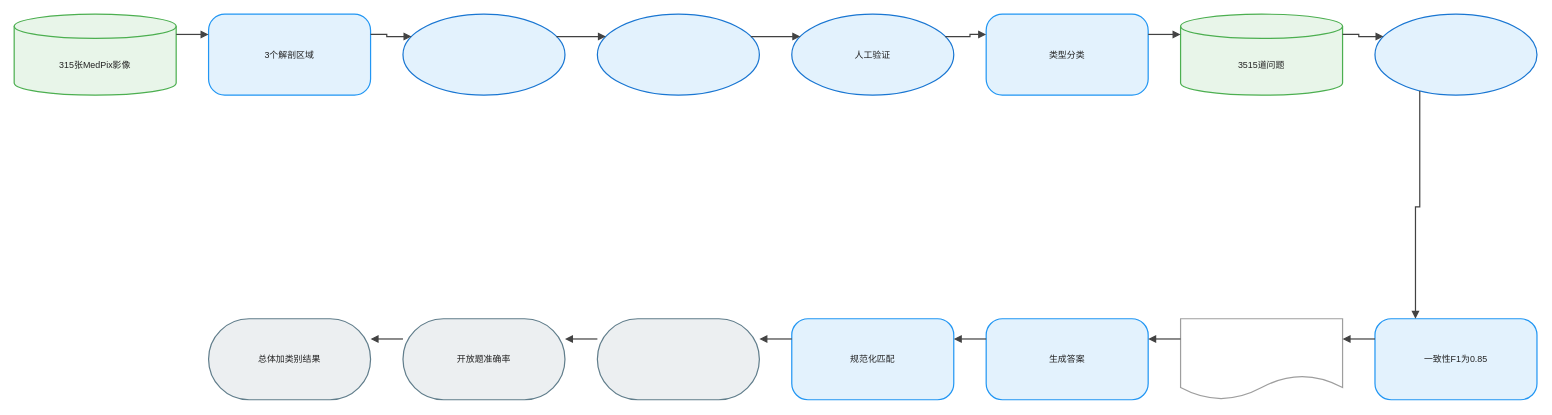
Some shapes in this 1552 by 415 pixel diagram are drawn without their labels. The shapes that lost their labels are listed below. From the top down, each one's centre as x and y in pixels, then its label:
At point (483, 54): "临床医生自然问答".
At point (678, 54): "自由加模板改写".
At point (1455, 54): "75%双人标注".
At point (678, 359): "封闭题准确率".
At point (1261, 359): "影像加临床问题".
